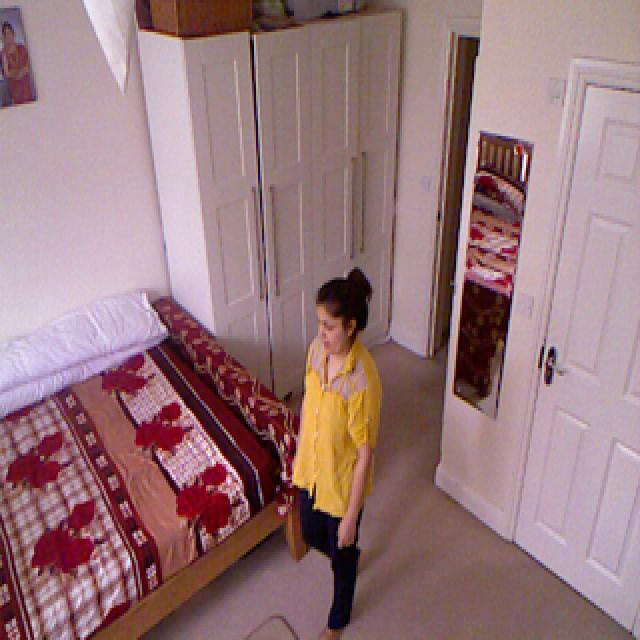standing: (283, 271, 394, 640)
